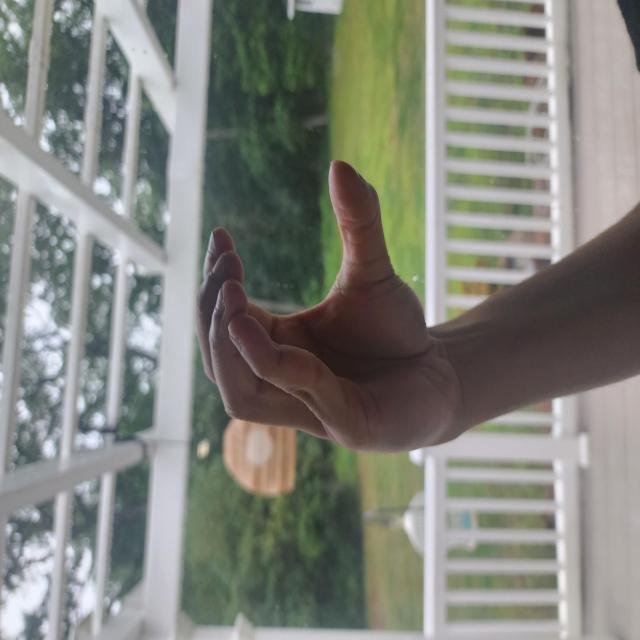C: (134, 250, 368, 631)
